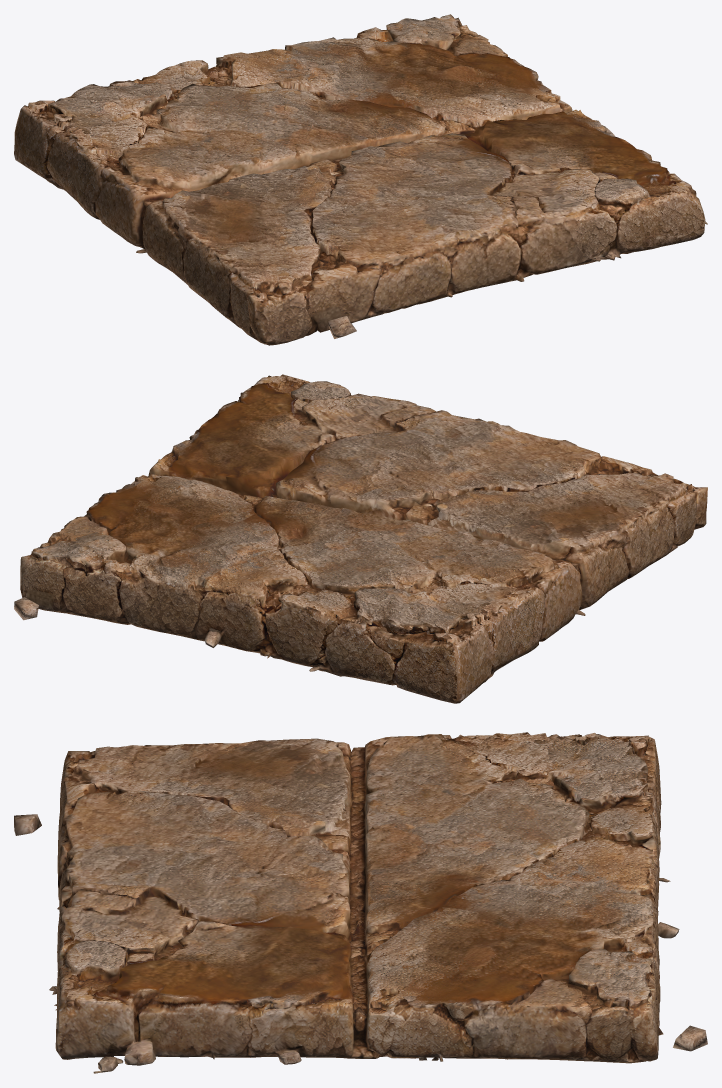
The model's file is floor_wet.glb.
3 renders of one model, top to bottom at view 1: azimuth 30°, elevation 25°; view 2: azimuth 150°, elevation 25°; view 3: azimuth 270°, elevation 25°, orthographic. The views are drawn at different scales.
Parts seen in each view (by area): view 1: tripo_node_7b41eb15-e4ce-4f27-8bf5-28915ac730f6; view 2: tripo_node_7b41eb15-e4ce-4f27-8bf5-28915ac730f6; view 3: tripo_node_7b41eb15-e4ce-4f27-8bf5-28915ac730f6.
Part boxes in pixels (x1,y1,x2,y2): tripo_node_7b41eb15-e4ce-4f27-8bf5-28915ac730f6: (14,14,707,345); tripo_node_7b41eb15-e4ce-4f27-8bf5-28915ac730f6: (14,374,707,703); tripo_node_7b41eb15-e4ce-4f27-8bf5-28915ac730f6: (14,732,707,1073).
Size of the model in its own units: 0.9266 by 0.1422 by 1.
1 material, 1 textured.
